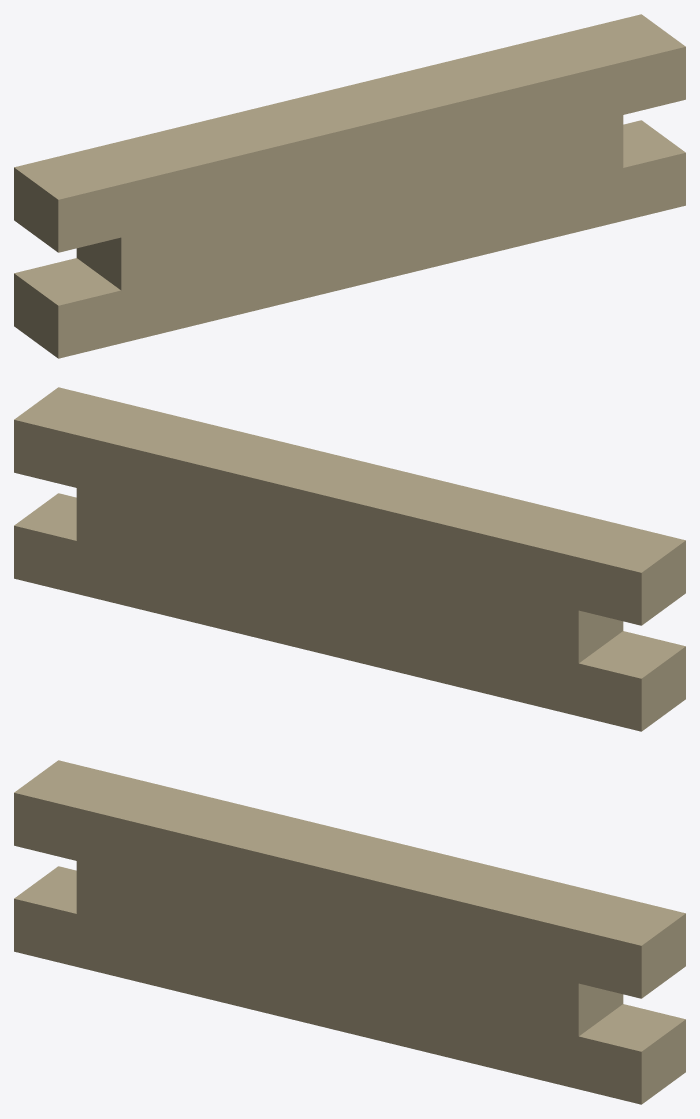
Rendered from sandbag_wall.glb.
3 views of the same model, one above another, from view 1: azimuth 30°, elevation 25°; view 2: azimuth 150°, elevation 25°; view 3: azimuth 330°, elevation 25° (orthographic).
Visible parts, largest first — view 1: model; view 2: model; view 3: model.
Part boxes in pixels (<box>): model: <box>14,14,685,358</box>; model: <box>14,387,685,731</box>; model: <box>14,760,685,1104</box>.
Bounding box in the file's own units: 3.1 × 0.75 × 0.38.
